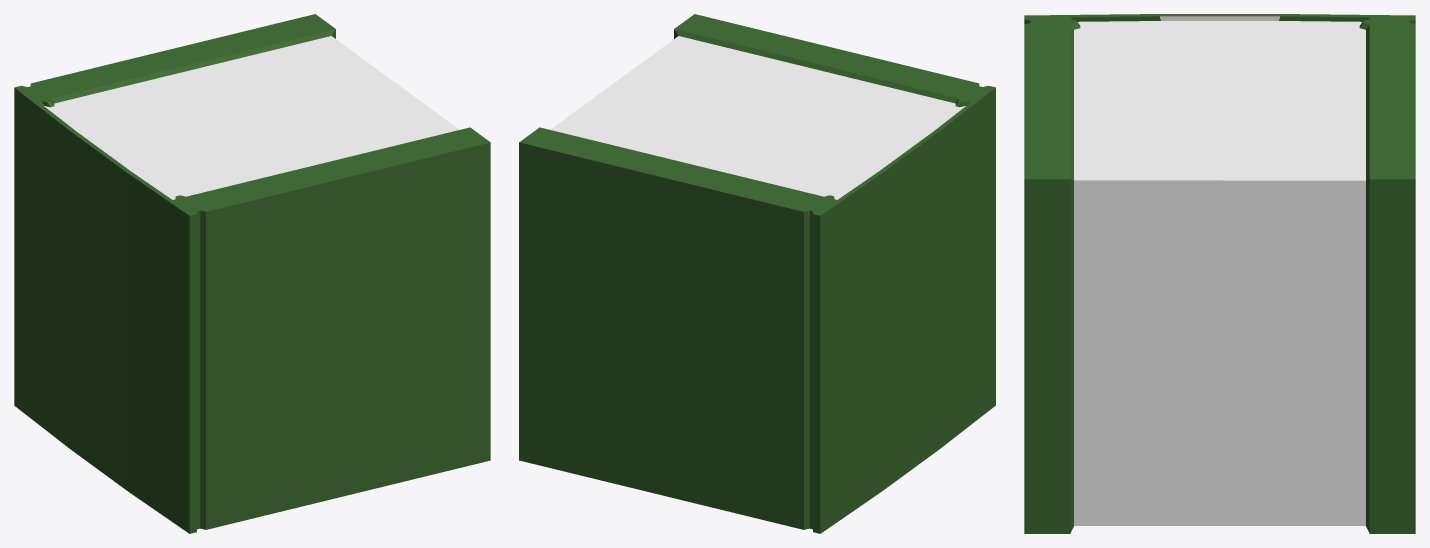
File: book-2.glb
3 renders of one model, left to right at view 1: azimuth 30°, elevation 25°; view 2: azimuth 150°, elevation 25°; view 3: azimuth 270°, elevation 25°, orthographic. The views are drawn at different scales.
Visible parts, largest first — view 1: Architexture_0, Architexture_1; view 2: Architexture_0, Architexture_1; view 3: Architexture_1, Architexture_0.
Part boxes in pixels (box(x1,y1,x2,y2)): Architexture_0: box(14, 14, 490, 533); Architexture_1: box(44, 36, 459, 199); Architexture_0: box(519, 14, 995, 533); Architexture_1: box(550, 36, 965, 199); Architexture_1: box(1074, 16, 1365, 525); Architexture_0: box(1024, 14, 1415, 533).
Bounding box in the file's own units: 1 × 1 × 1.
